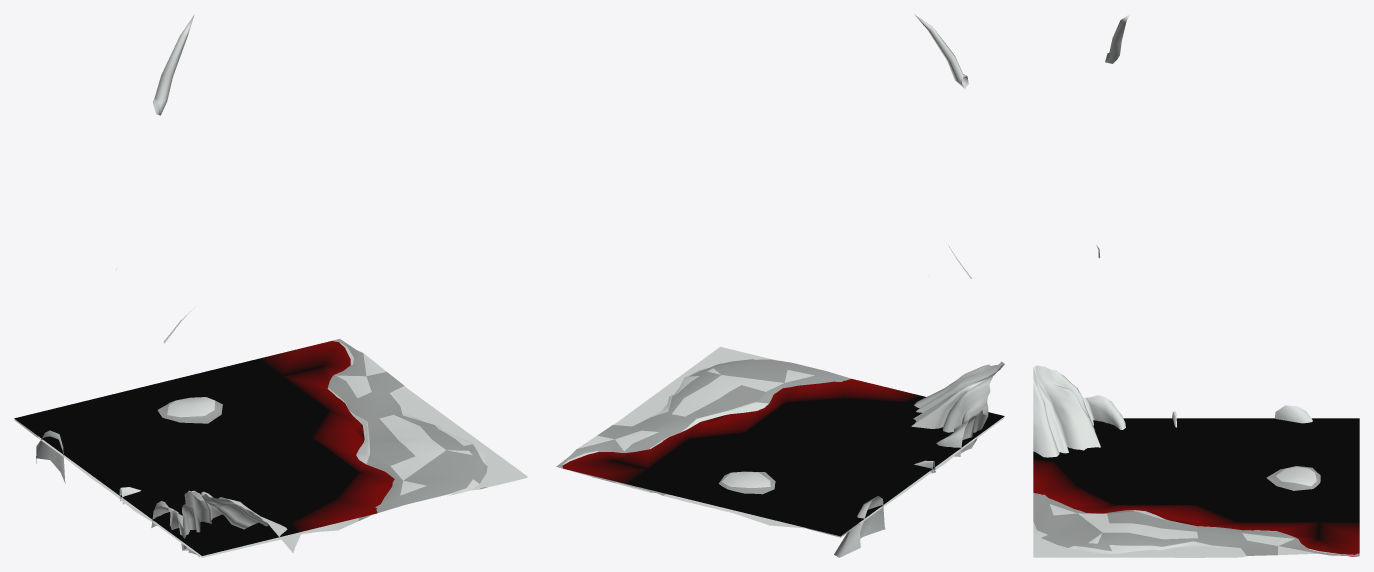
The picture shows the model from 3 angles, left to right: view 1: azimuth 30°, elevation 25°; view 2: azimuth 150°, elevation 25°; view 3: azimuth 270°, elevation 25°; orthographic projection. The views are drawn at different scales.
Parts seen in each view (by area): view 1: G:\FFXIV-MapTools\exports\f1f3\bg\ffxiv\fst_f1\fld\f1f3\bgpl (×8); view 2: G:\FFXIV-MapTools\exports\f1f3\bg\ffxiv\fst_f1\fld\f1f3\bgpl (×8); view 3: G:\FFXIV-MapTools\exports\f1f3\bg\ffxiv\fst_f1\fld\f1f3\bgpl (×8).
Boxes of the visible parts, <box> form: G:\FFXIV-MapTools\exports\f1f3\bg\ffxiv\fst_f1\fld\f1f3\bgpl (×8): <box>14,14,527,557</box>; G:\FFXIV-MapTools\exports\f1f3\bg\ffxiv\fst_f1\fld\f1f3\bgpl (×8): <box>556,14,1004,557</box>; G:\FFXIV-MapTools\exports\f1f3\bg\ffxiv\fst_f1\fld\f1f3\bgpl (×8): <box>1033,14,1359,557</box>.
Bounding box in the file's own units: 128 × 198 × 128.
